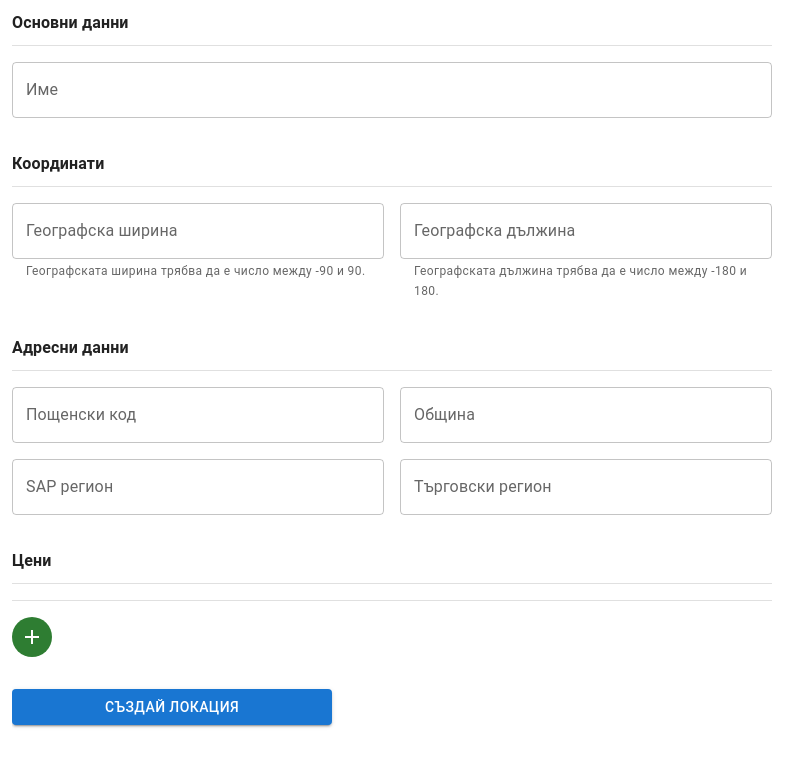
Scenario: LocationForm › shows a duplicate-name error when the API responds with 409
Type "София" into the field labelled "Име" at (392,90), box [12, 62, 772, 118]
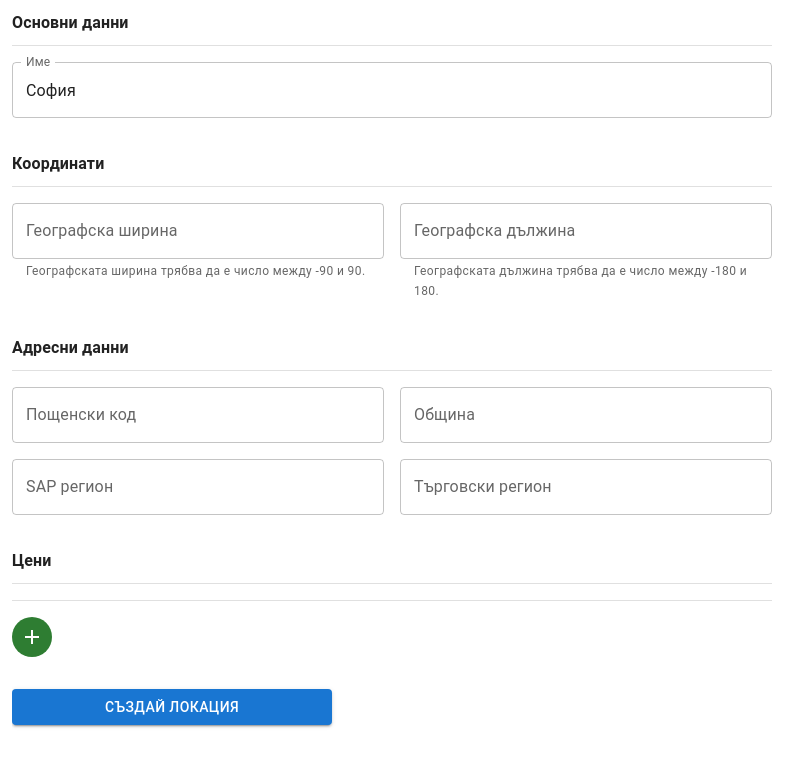
Type "42" into the number field labelled "Географска ширина" at (198,231), box [12, 203, 384, 259]
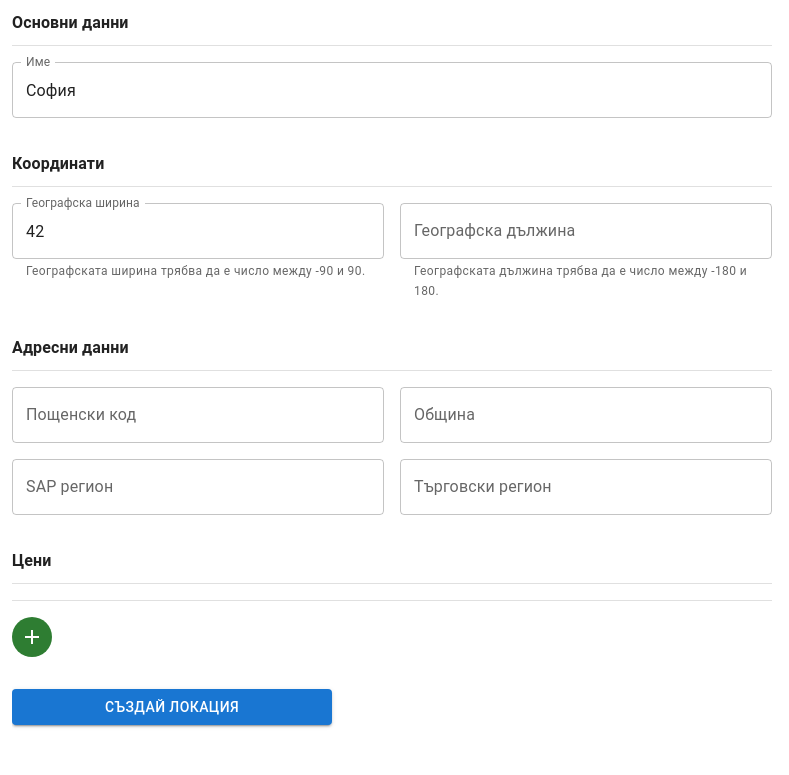
Type "23" into the number field labelled "Географска дължина" at (586,231), box [400, 203, 772, 259]
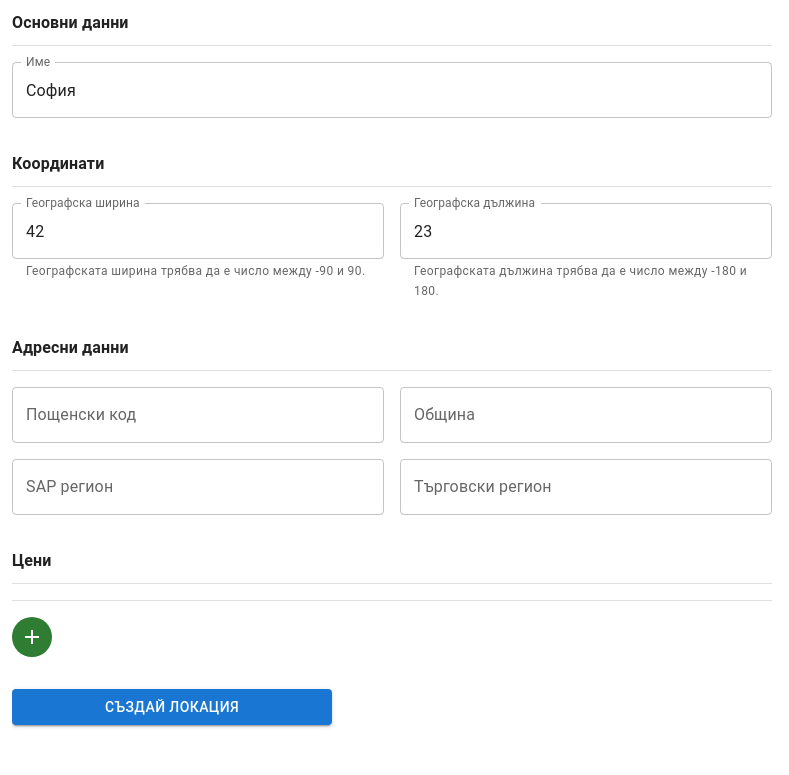
Click the button "Създай локация" at (172,707), box [12, 689, 332, 725]
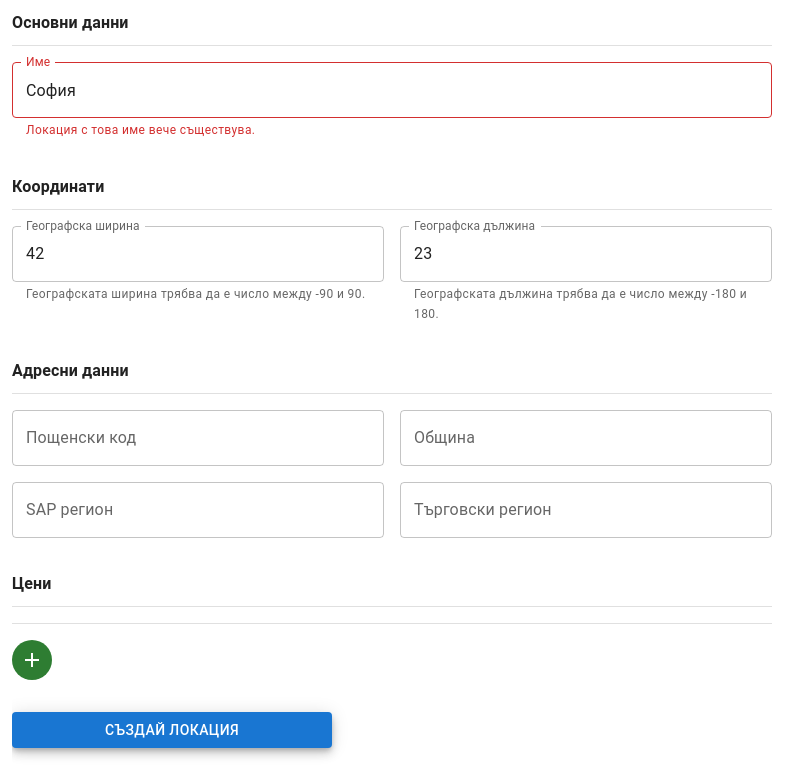
Expected: the text "Локация с това име вече съществува." is shown, [26, 123, 255, 137]
